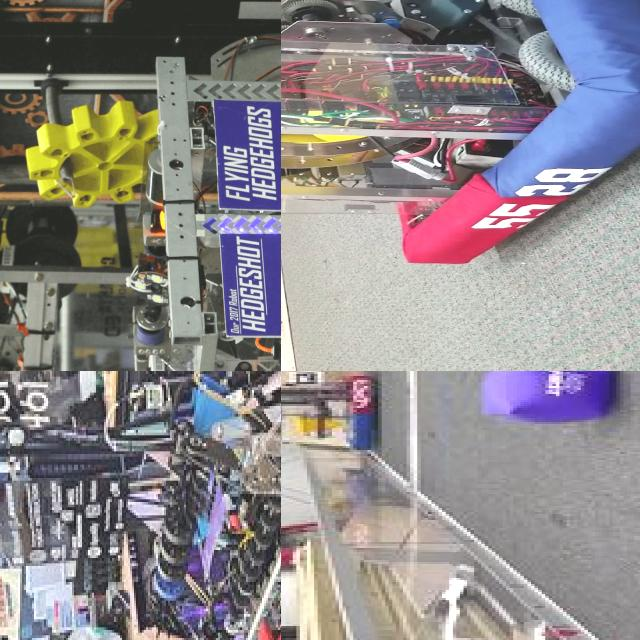FRC-Robots: (281, 0, 640, 371), (0, 0, 281, 371), (44, 371, 281, 640), (281, 371, 372, 469)
